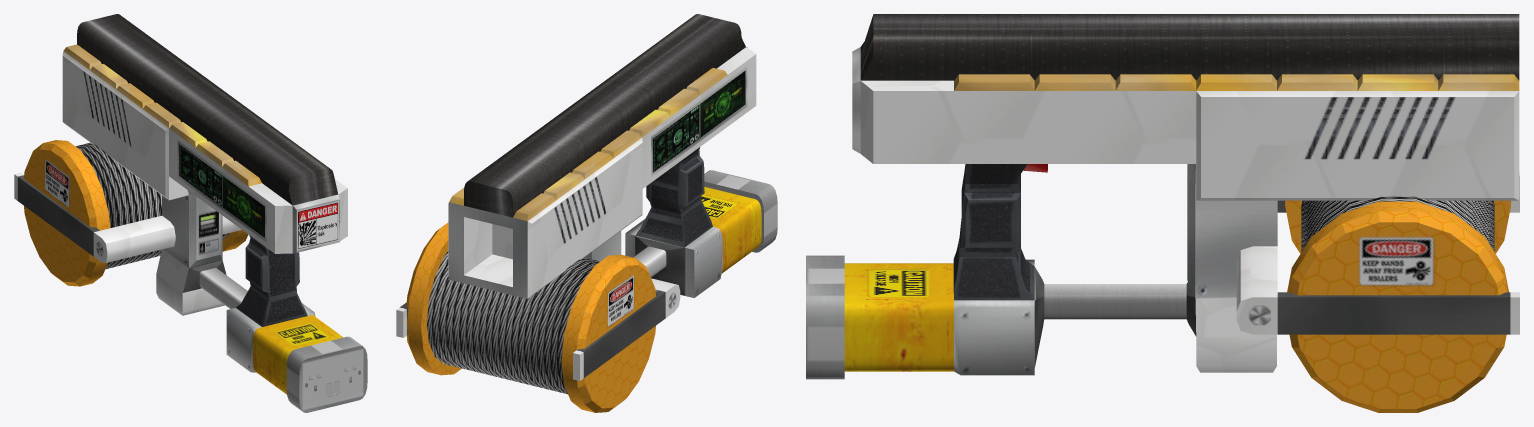
Rendered from SMG01.fbx.
The picture shows the model from 3 angles, left to right: view 1: azimuth 30°, elevation 25°; view 2: azimuth 150°, elevation 25°; view 3: azimuth 270°, elevation 25°; orthographic projection. The views are drawn at different scales.
Parts seen in each view (by area): view 1: Box001; view 2: Box001; view 3: Box001.
Part boxes in pixels (<box>): Box001: <box>14,14,367,412</box>; Box001: <box>396,14,777,412</box>; Box001: <box>806,14,1519,412</box>.
Bounding box in the file's own units: 47.16 × 57.55 × 112.
1 material, 1 textured.
